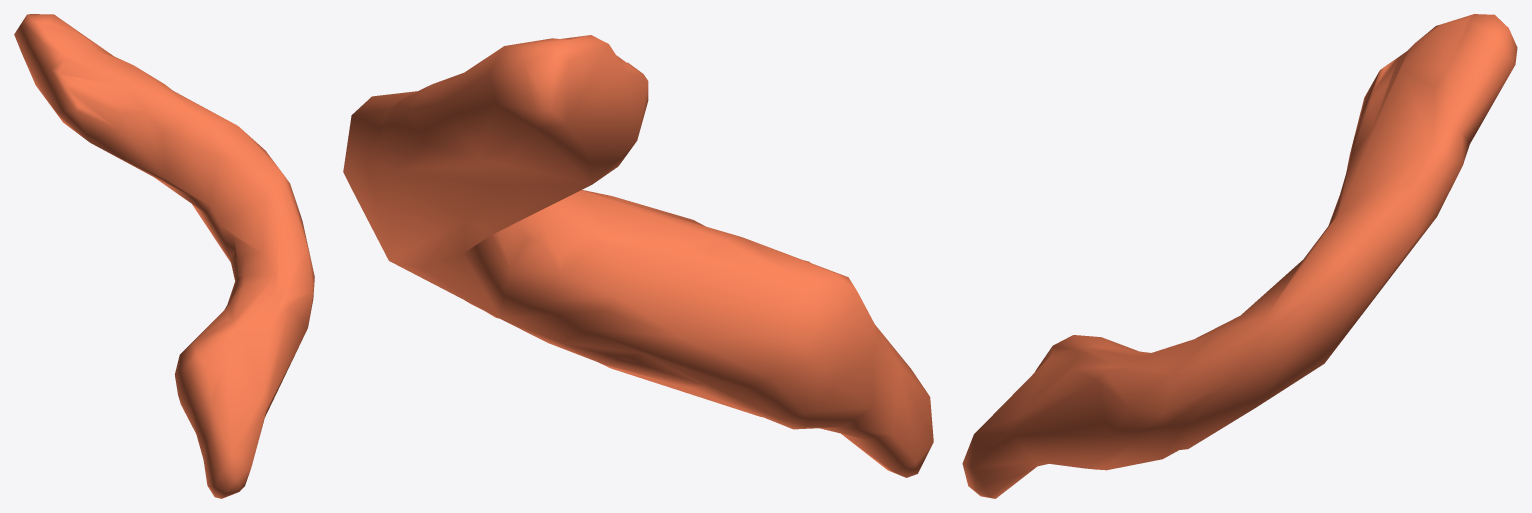
The model's file is External_anal_sphincter.l_Generated_Mesh_From_X3D.883.glb.
The picture shows the model from 3 angles, left to right: view 1: azimuth 30°, elevation 25°; view 2: azimuth 150°, elevation 25°; view 3: azimuth 270°, elevation 25°; orthographic projection. The views are drawn at different scales.
Visible parts, largest first — view 1: External_anal_sphincter.l_Generated_Mesh_From_X3D.883; view 2: External_anal_sphincter.l_Generated_Mesh_From_X3D.883; view 3: External_anal_sphincter.l_Generated_Mesh_From_X3D.883.
Part boxes in pixels (x1,y1,x2,y2): External_anal_sphincter.l_Generated_Mesh_From_X3D.883: [14, 14, 314, 498]; External_anal_sphincter.l_Generated_Mesh_From_X3D.883: [343, 35, 933, 477]; External_anal_sphincter.l_Generated_Mesh_From_X3D.883: [962, 14, 1517, 498].
Bounding box in the file's own units: 0.012 × 0.0216 × 0.0229.
